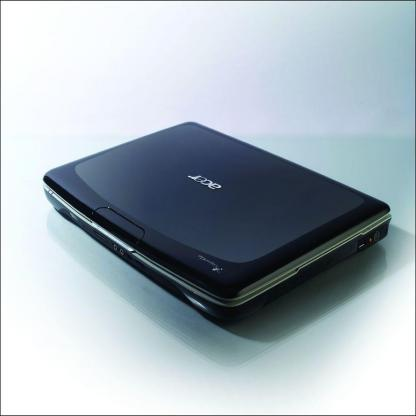board: (41, 120, 391, 323)
